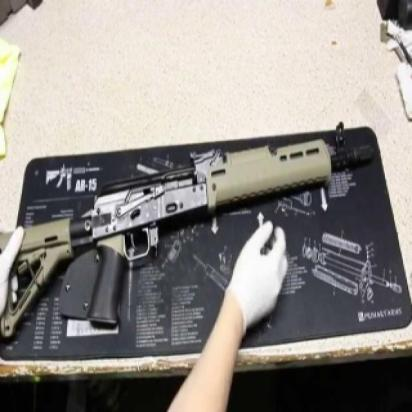Gun: (0, 118, 377, 342)
